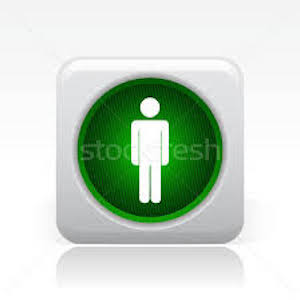green: (116, 92, 180, 202)
